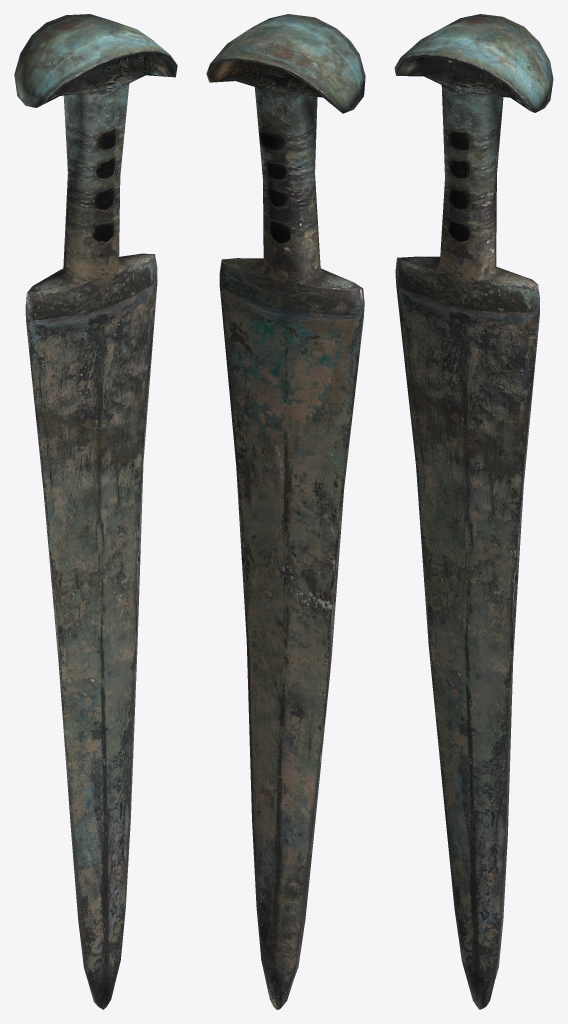
The model's file is Bronze Dagger.fbx.
The picture shows the model from 3 angles, left to right: view 1: azimuth 30°, elevation 25°; view 2: azimuth 150°, elevation 25°; view 3: azimuth 330°, elevation 25°; orthographic projection.
Visible parts, largest first — view 1: Bronze Dagger; view 2: Bronze Dagger; view 3: Bronze Dagger.
Boxes of the visible parts, bbox=[...] form: Bronze Dagger: bbox=[14, 14, 177, 1009]; Bronze Dagger: bbox=[206, 14, 365, 1009]; Bronze Dagger: bbox=[394, 14, 553, 1009].
Size of the model in its own units: 6.91 by 44.69 by 4.68.
